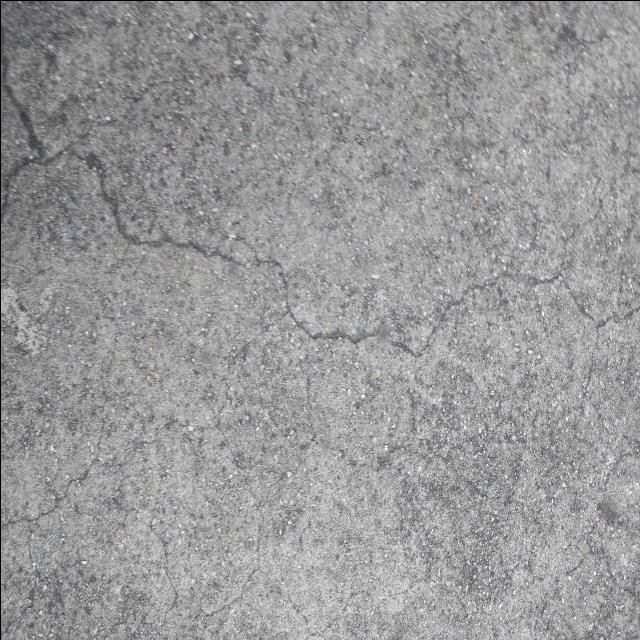SurfaceCrack: (1, 20, 640, 391)
